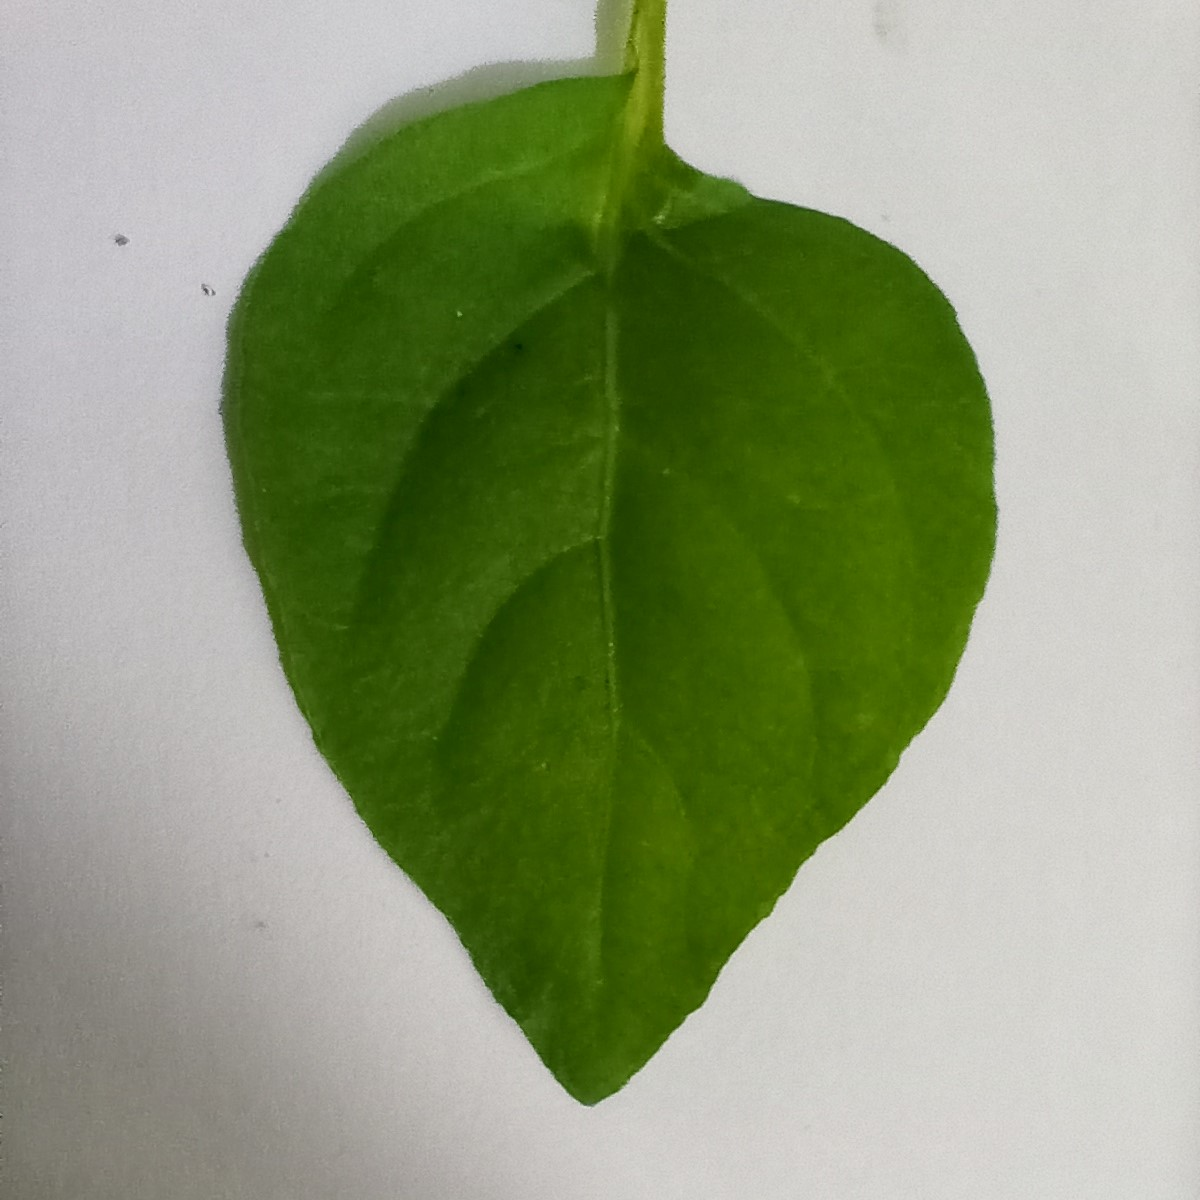Leaf: (159, 54, 1105, 1122)
